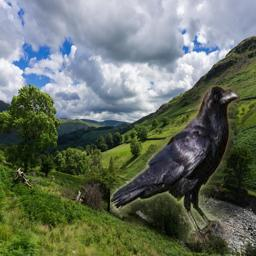Crow: (110, 85, 240, 243)
